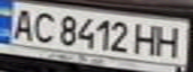1: (93, 17, 112, 52)
2: (109, 18, 133, 54)
4: (75, 16, 96, 50)
8: (54, 12, 78, 47)
A: (6, 6, 39, 42)
C: (27, 9, 60, 44)
H: (154, 24, 187, 58), (133, 21, 163, 56)
